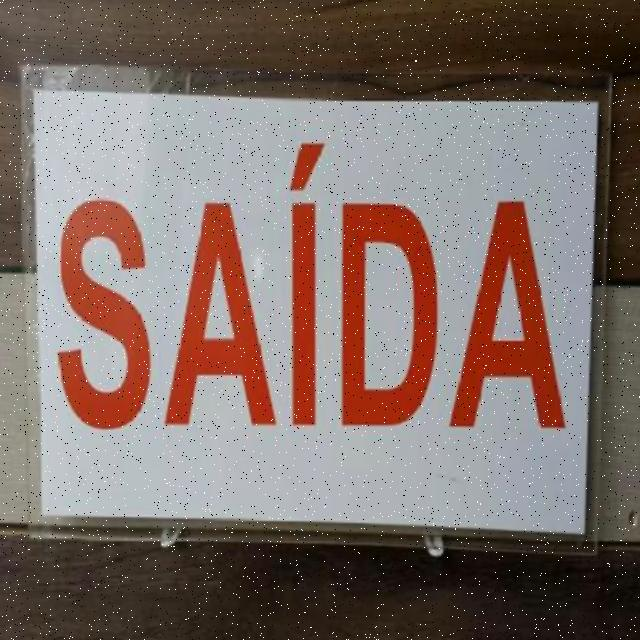emergency_exit: (22, 64, 604, 545)
